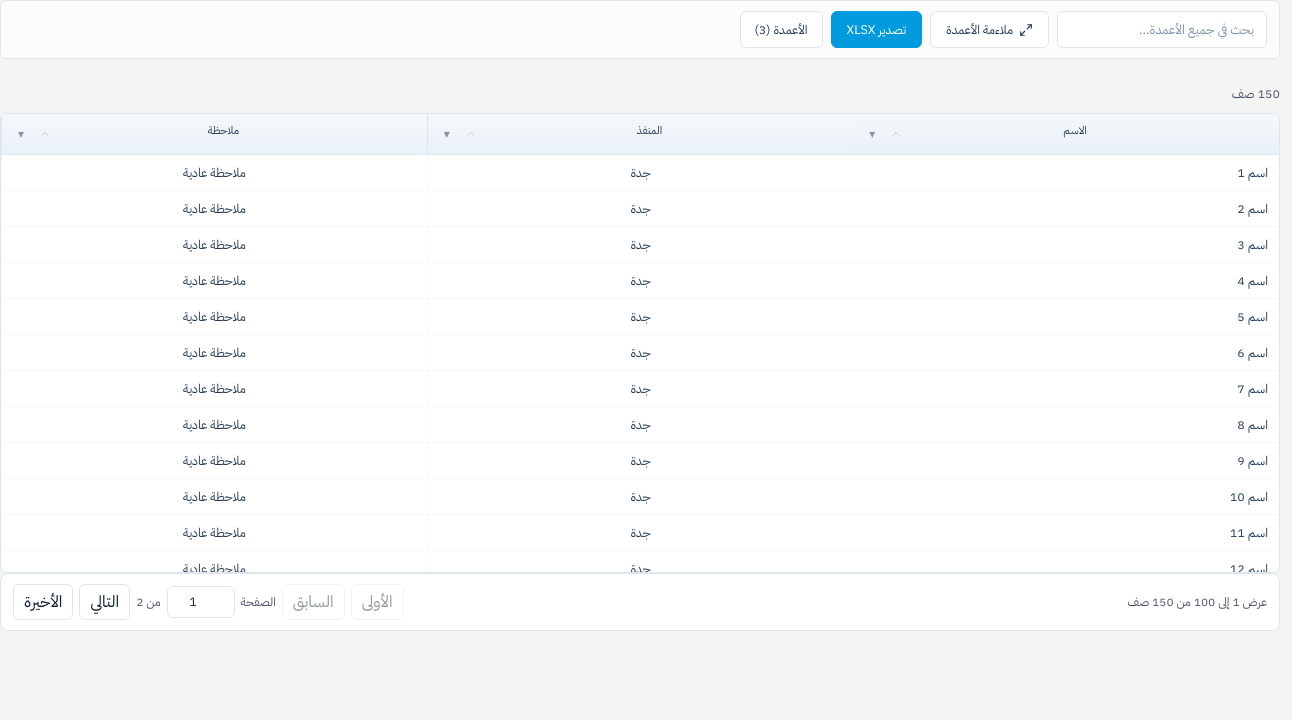
it: DataTable — RTL render + interactions (characterization) › searches the full dataset and finds a match beyond the first 100 rows
Type "المطابقة المتأخرة" into the field with placeholder "بحث في جميع الأعمدة...". click: (1162, 30)
box: 1057,11 -> 1267,48
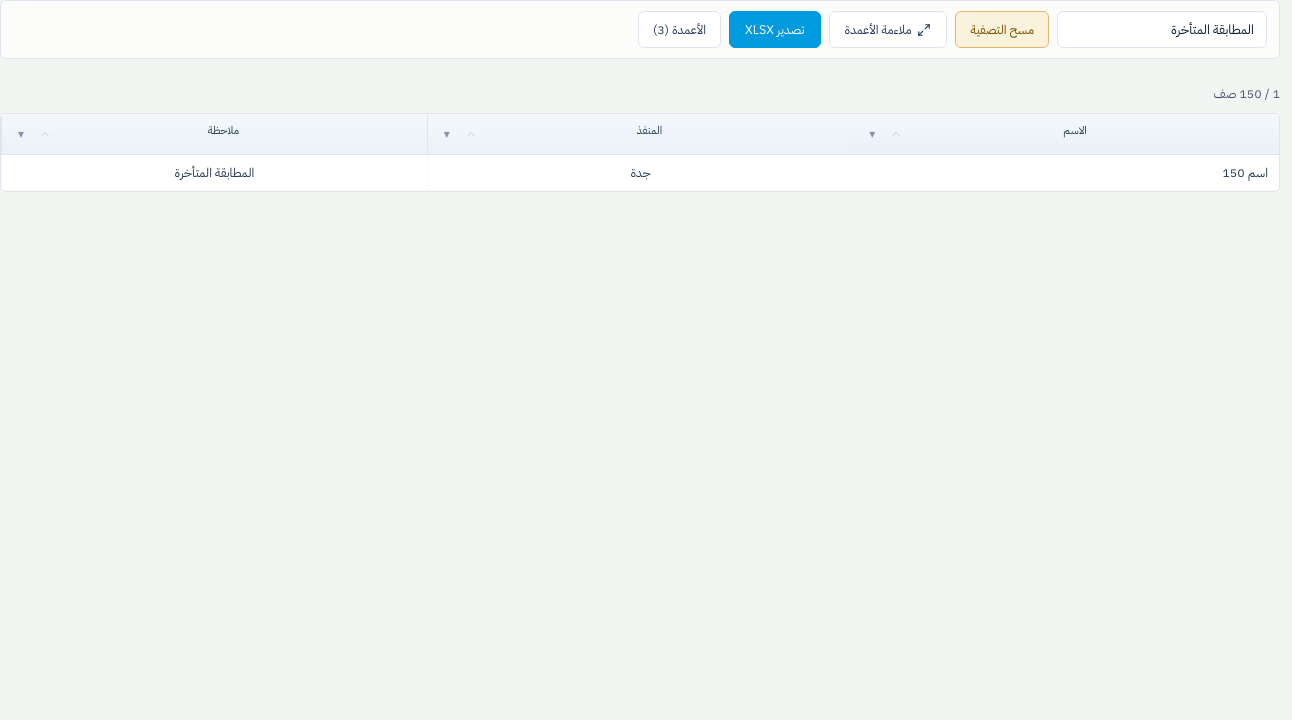
Now the text "اسم 150" is shown, box 1222,163 -> 1268,182
Now the text "1 / 150 صف" is shown, box 1214,84 -> 1280,102
